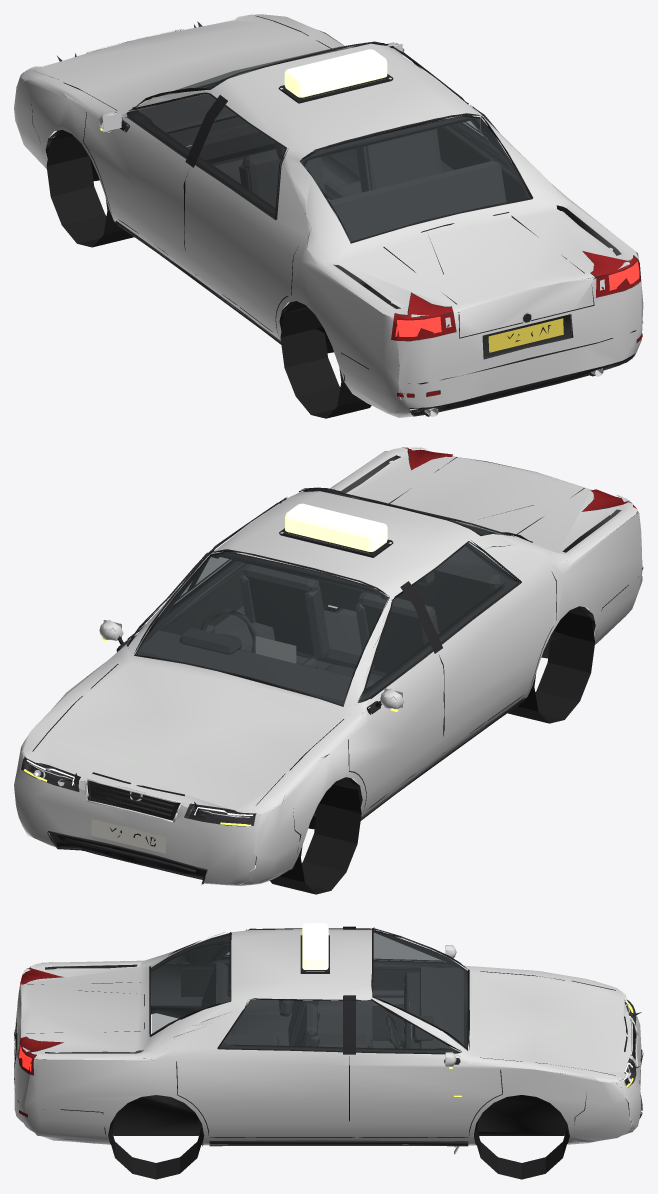
File: civ_taxi_traffic.glb
3 renders of one model, top to bottom at view 1: azimuth 30°, elevation 25°; view 2: azimuth 150°, elevation 25°; view 3: azimuth 270°, elevation 25°, orthographic. The views are drawn at different scales.
Visible parts, largest first — view 1: civ_taxi; view 2: civ_taxi; view 3: civ_taxi.
Part boxes in pixels (bbox=[...]): civ_taxi: bbox=[14, 14, 643, 418]; civ_taxi: bbox=[14, 447, 643, 894]; civ_taxi: bbox=[14, 923, 643, 1179].
Bounding box in the file's own units: 2.09 × 1.62 × 4.81.
